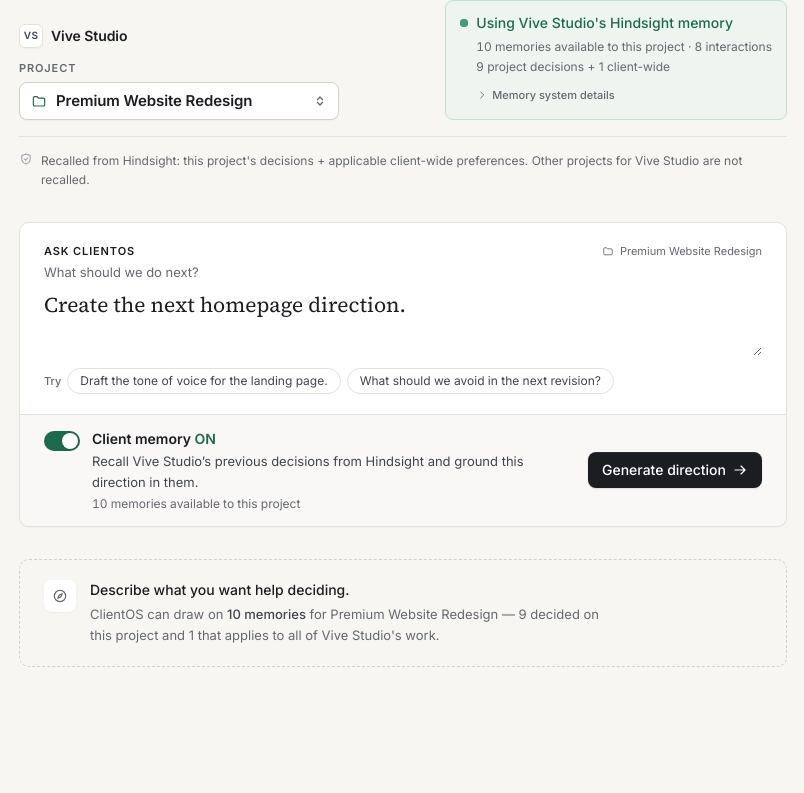
Test: AIWorkspace — generation uses the active project › after switching project, the recommendation uses the NEW project
The width and height of the screenshot is (804, 793).
Select "Mobile App" in the dropdown labelled "Project": (179, 100) [19,82,339,120]
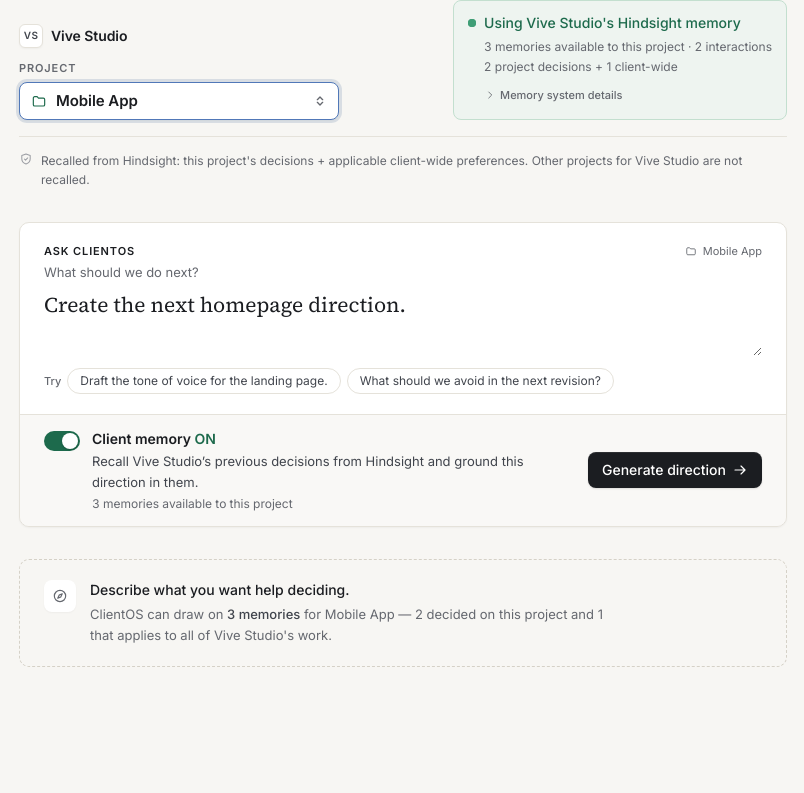
Click the button "Generate direction": (675, 470) [588,452,762,488]
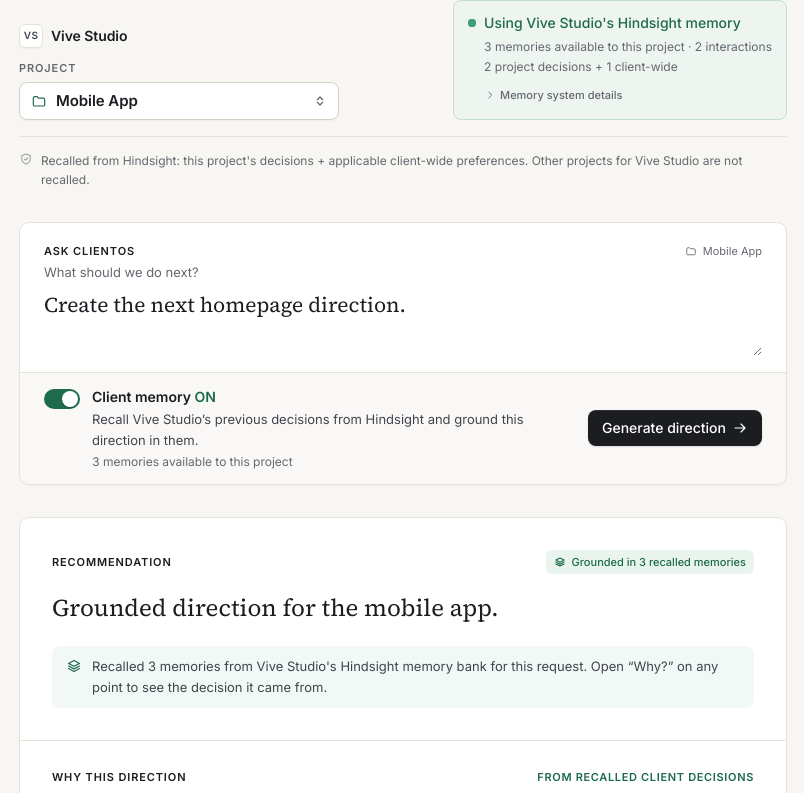
Expected: the text "Grounded direction for the mobile app." is shown, [52,590,499,624]
